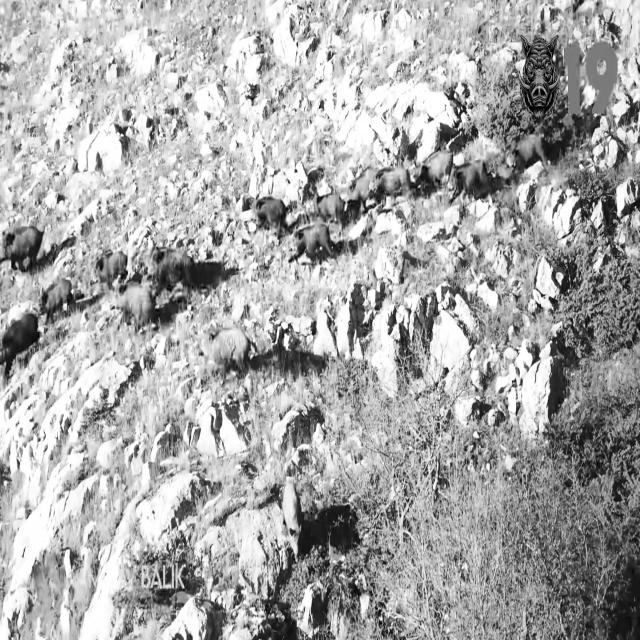boar: (519, 34, 559, 120), (348, 166, 421, 203), (1, 312, 38, 372), (0, 225, 42, 269), (152, 247, 191, 292), (448, 158, 493, 196), (118, 281, 154, 327), (289, 223, 333, 260), (256, 195, 287, 237), (514, 133, 546, 169), (96, 250, 127, 287), (41, 278, 71, 316), (421, 149, 453, 184), (318, 192, 344, 220)
